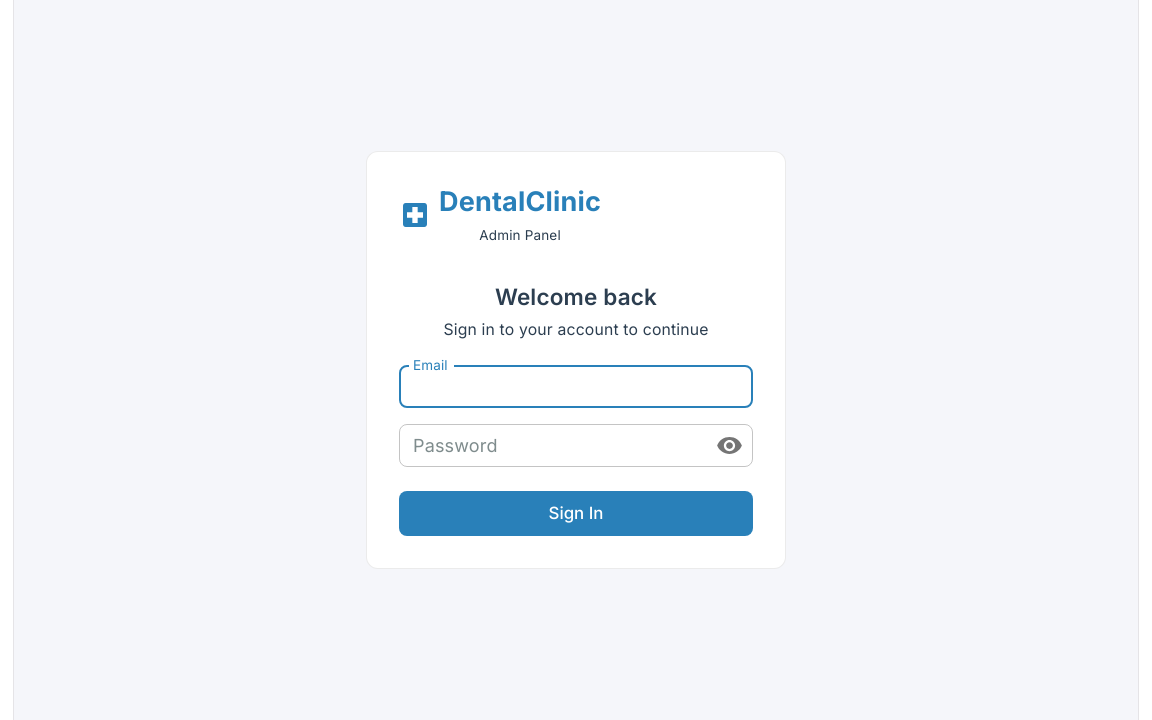
it: LoginPage › shows validation errors on empty submit
Click the button "Sign In": (576, 514) [399,491,753,536]
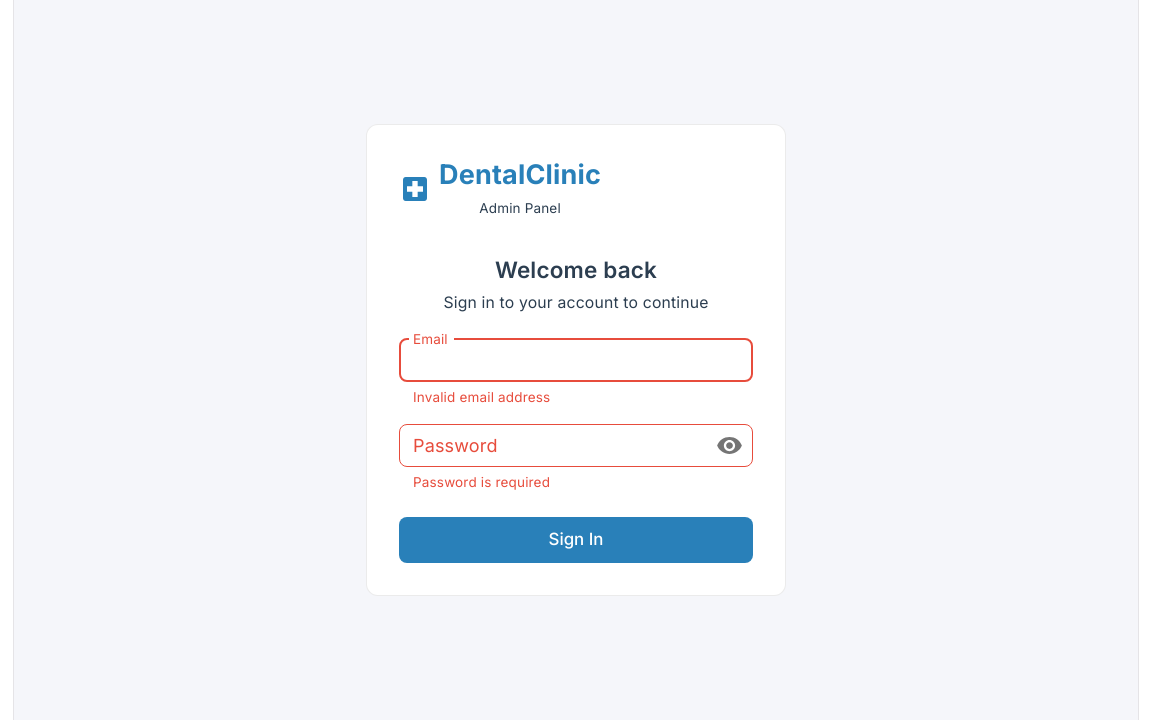
expect the text "Invalid email address" is shown: met, box [413,389,550,405]
